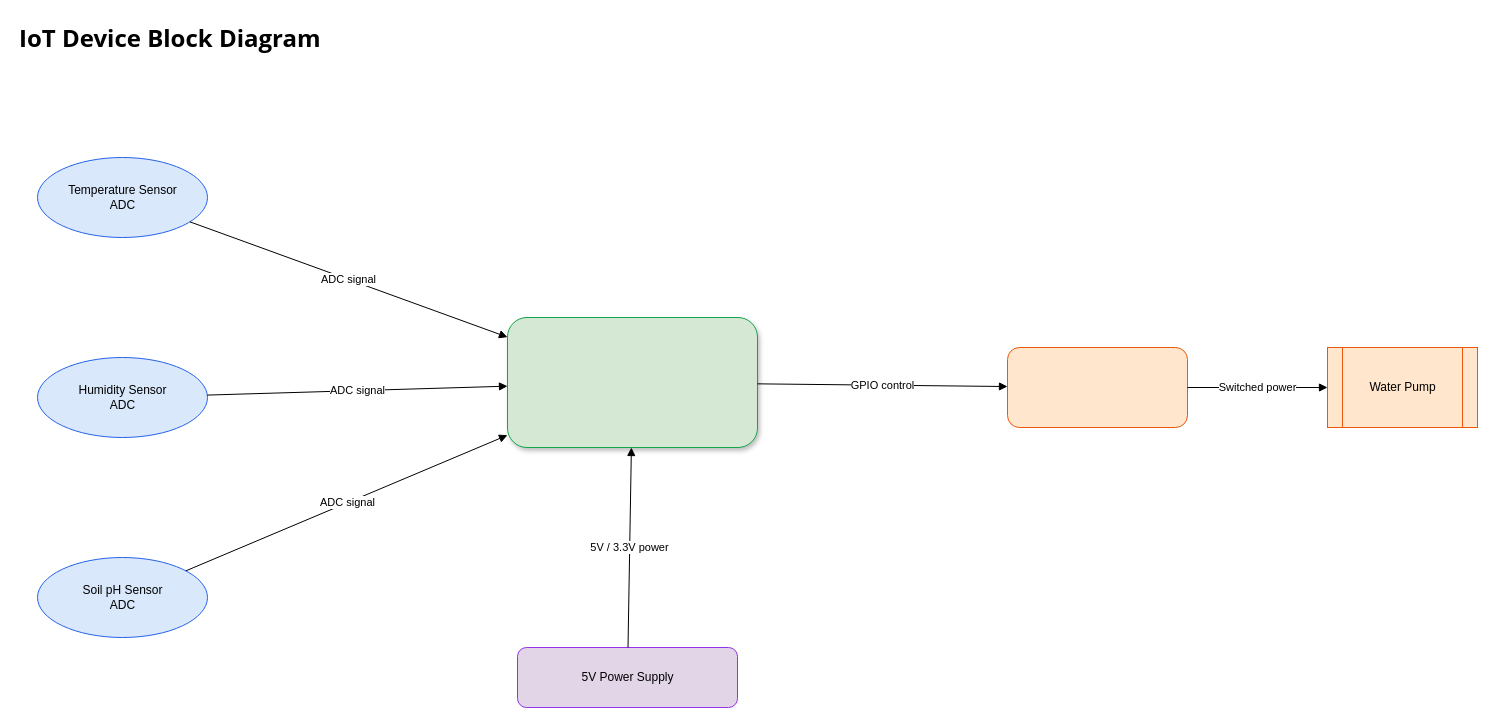
Image size: 1495x725. Some labels were removed from this diagram. Each missing label, with the centre of its shape:
ESP32 ADC Inputs / GPIO Outputs 3.3V: point 633,383
Relay Module GPIO / 5V: point 1097,387
